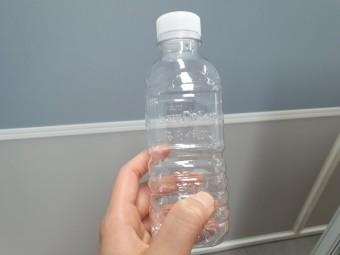plastic_bottle: (144, 10, 232, 241)
